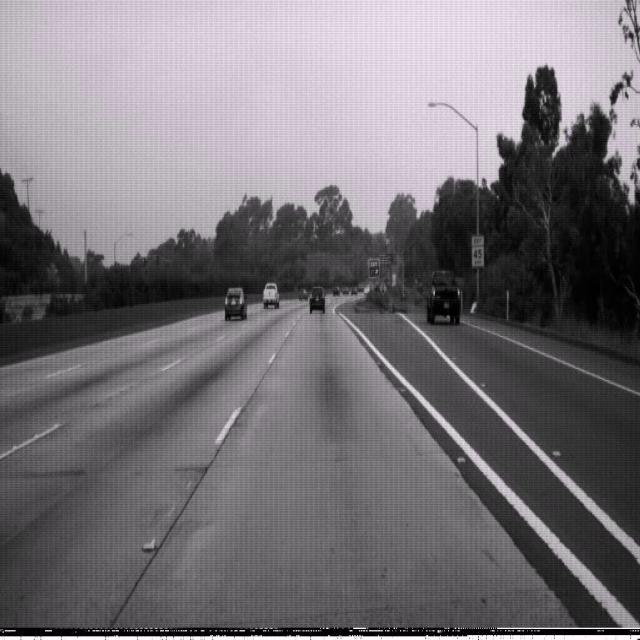speedLimit45: (471, 233, 484, 268)
